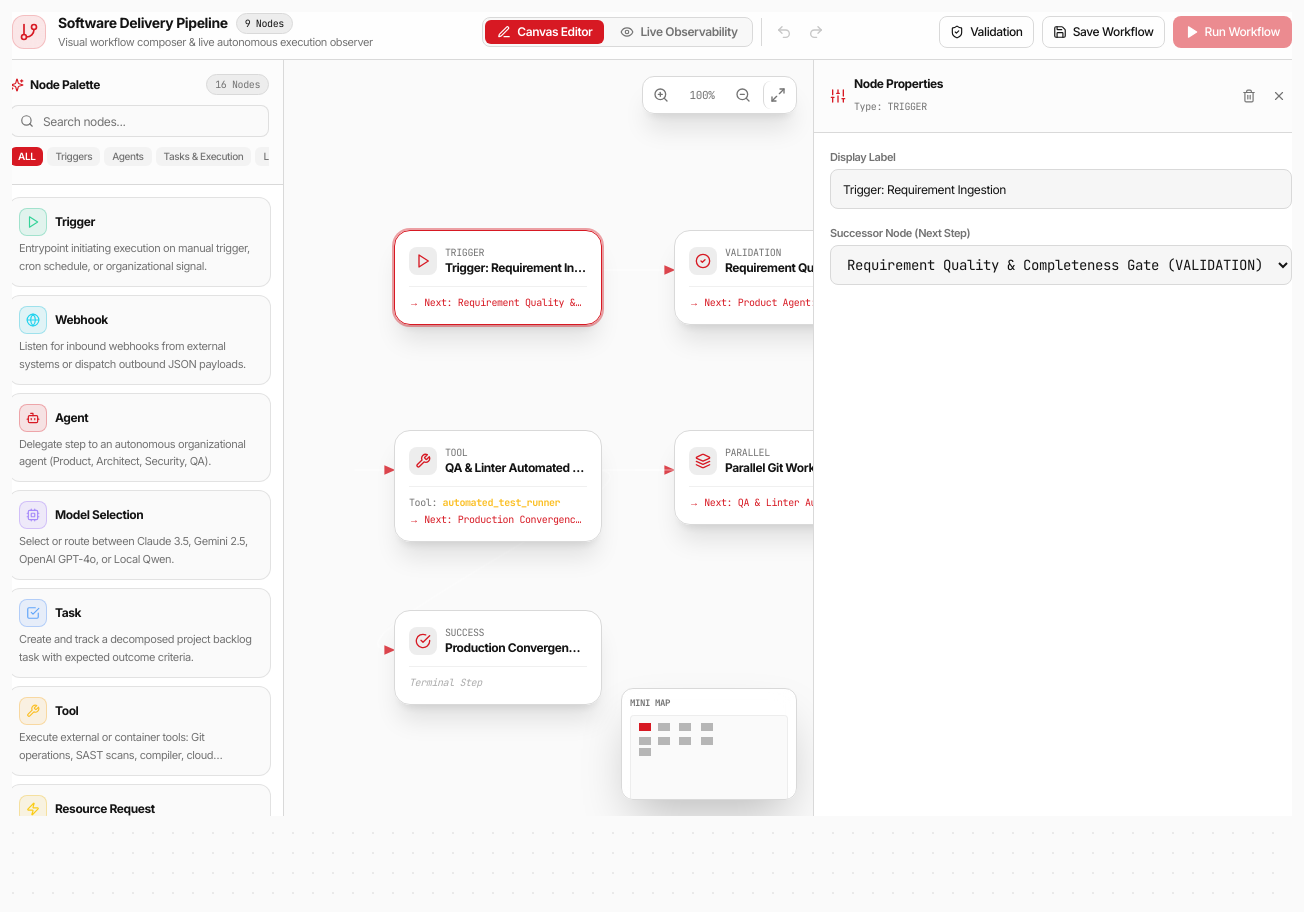
Test: Visual Workflow Editor & Observability Canvas › allows selecting a canvas node and inspecting properties in Properties Inspector
The width and height of the screenshot is (1304, 912).
Expected: the element with test id "workflow-node-s-2" is shown, x1=674 y1=230 x2=813 y2=325
// Click on node on canvas
Click the element with test id "workflow-node-s-2": (778, 278) x1=674 y1=230 x2=882 y2=325
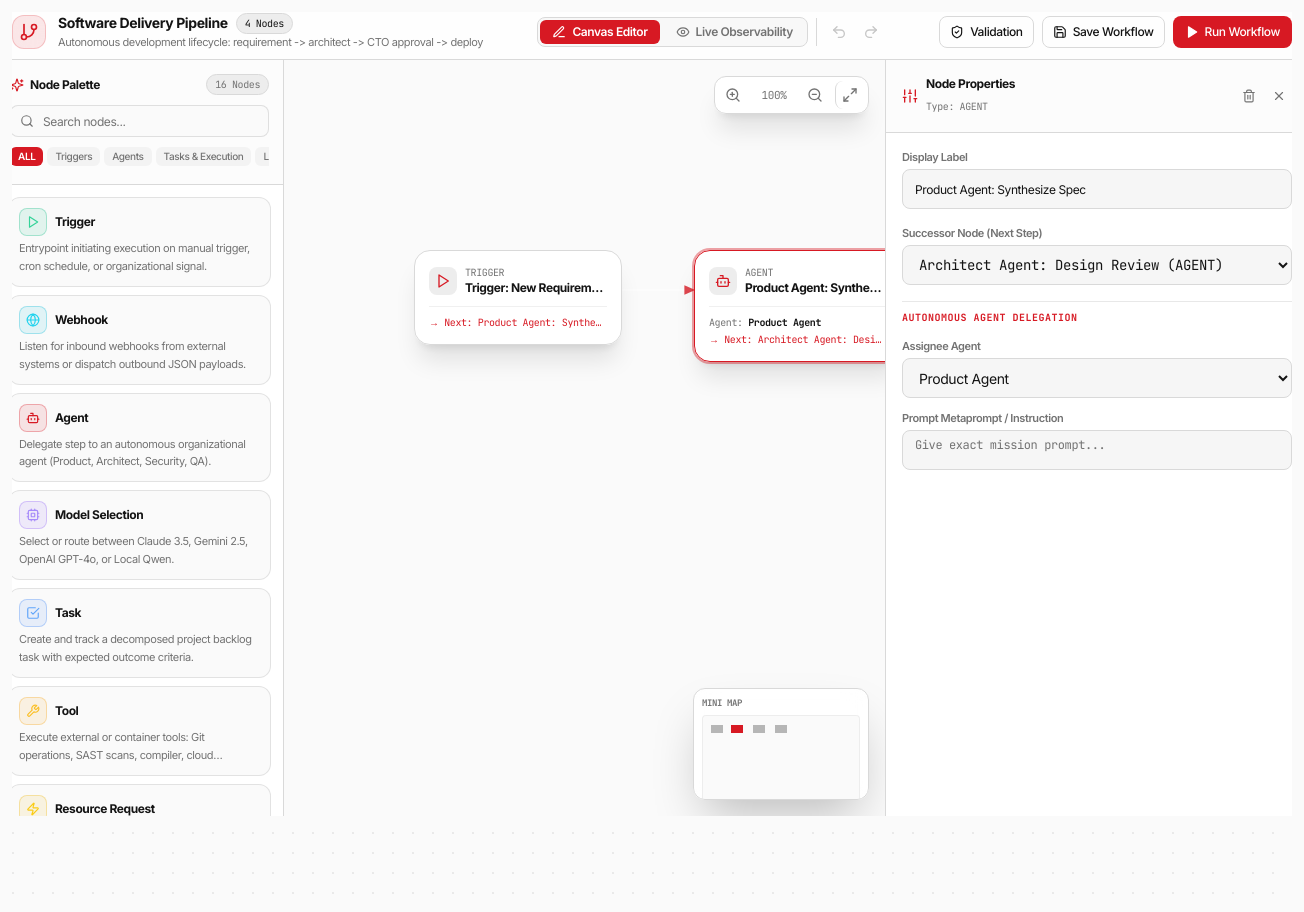
Expected: the text "Autonomous Agent Delegation" is shown, x1=902 y1=311 x2=1078 y2=324
Expected: the text "Assignee Agent" is shown, x1=902 y1=339 x2=980 y2=353
Expected: the text "Prompt Metaprompt / Instruction" is shown, x1=902 y1=411 x2=1063 y2=425
